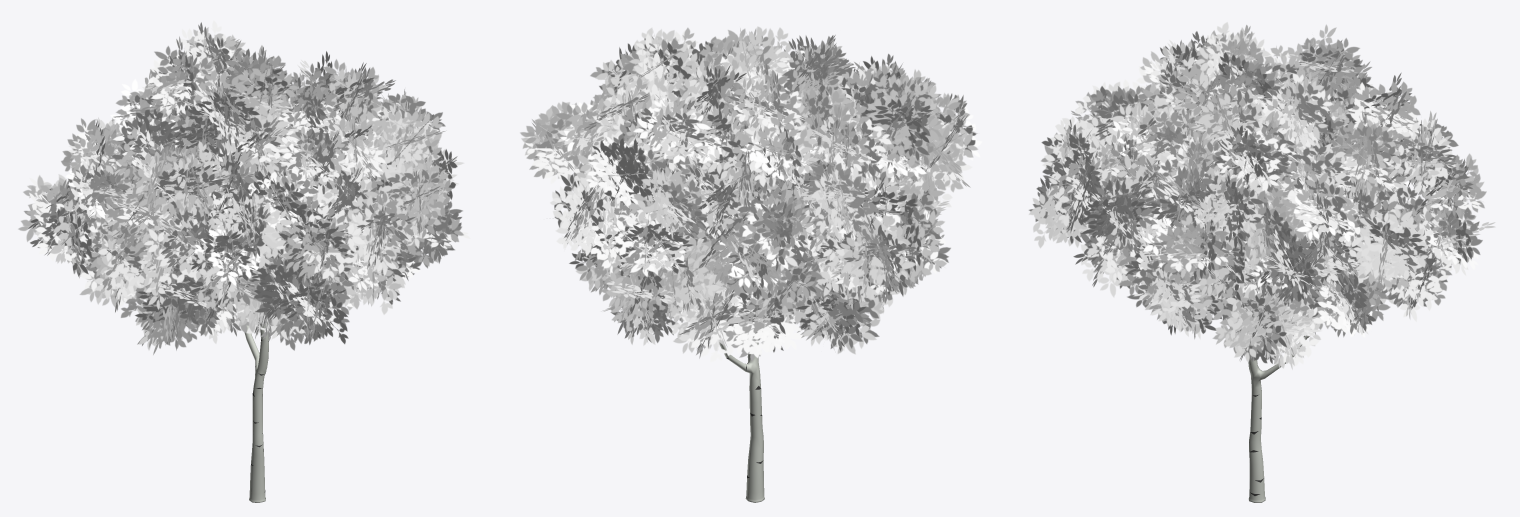
The model's file is giant_stylized_2.glb.
The picture shows the model from 3 angles, left to right: view 1: azimuth 30°, elevation 25°; view 2: azimuth 150°, elevation 25°; view 3: azimuth 270°, elevation 25°; orthographic projection. The views are drawn at different scales.
Visible parts, largest first — view 1: Plane, BirchTree_Dead_5; view 2: Plane, BirchTree_Dead_5; view 3: Plane, BirchTree_Dead_5.
Boxes of the visible parts, left/top/right/bottom form: Plane: left=18, top=20, right=470, bottom=354; BirchTree_Dead_5: left=236, top=156, right=278, bottom=502; Plane: left=520, top=26, right=982, bottom=362; BirchTree_Dead_5: left=705, top=138, right=765, bottom=502; Plane: left=1028, top=22, right=1495, bottom=369; BirchTree_Dead_5: left=1238, top=168, right=1313, bottom=502.
Size of the model in its own units: 16.99 by 17.35 by 16.88.
Materials: 3 (1 with a texture image).
